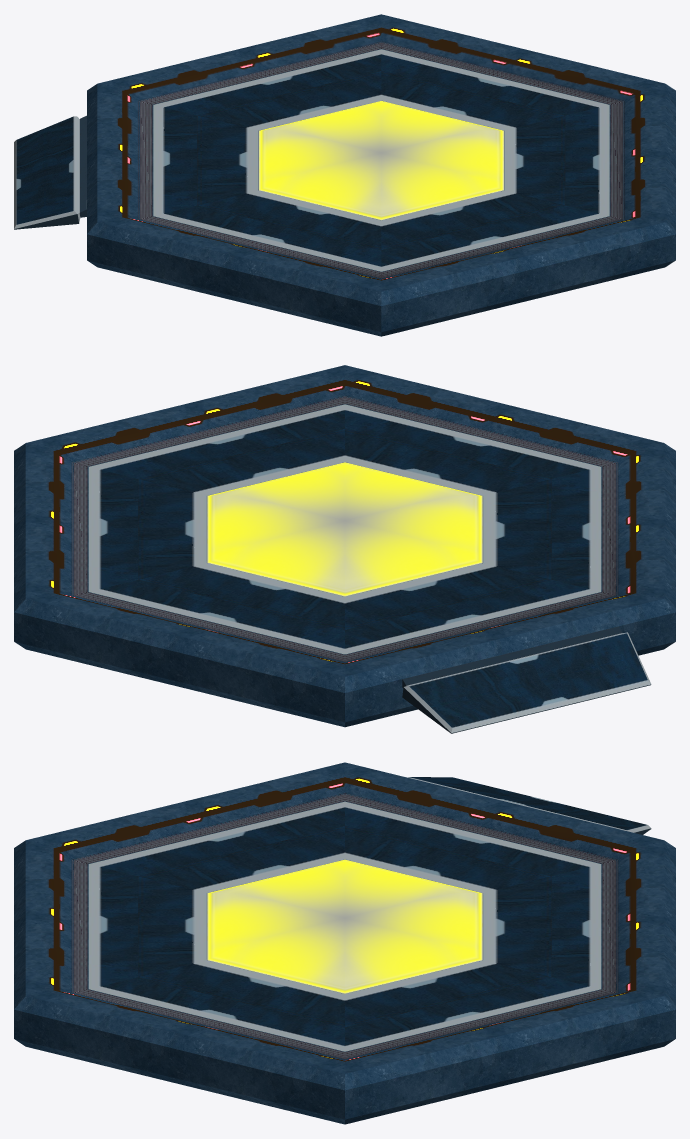
Rendered from entity2120n.gltf.
The picture shows the model from 3 angles, top to bottom: view 1: azimuth 30°, elevation 25°; view 2: azimuth 150°, elevation 25°; view 3: azimuth 270°, elevation 25°; orthographic projection. The views are drawn at different scales.
Visible parts, largest first — view 1: node_Museum_Hex_Floor_Piece_b (2), node_Museum_Hex_Floor_Piece_b_transparency, node_Museum_Hex_Floor_Ramp_Art (1); view 2: node_Museum_Hex_Floor_Piece_b (2), node_Museum_Hex_Floor_Piece_b_transparency, node_Museum_Hex_Floor_Ramp_Art (1); view 3: node_Museum_Hex_Floor_Piece_b (2), node_Museum_Hex_Floor_Piece_b_transparency, node_Museum_Hex_Floor_Ramp_Art (1).
Part boxes in pixels (x1,y1,x2,y2): node_Museum_Hex_Floor_Piece_b (2): [87, 14, 675, 336]; node_Museum_Hex_Floor_Piece_b_transparency: [259, 101, 503, 220]; node_Museum_Hex_Floor_Ramp_Art (1): [14, 115, 86, 229]; node_Museum_Hex_Floor_Piece_b (2): [14, 365, 675, 727]; node_Museum_Hex_Floor_Piece_b_transparency: [207, 462, 482, 596]; node_Museum_Hex_Floor_Ramp_Art (1): [402, 626, 651, 733]; node_Museum_Hex_Floor_Piece_b (2): [14, 762, 675, 1124]; node_Museum_Hex_Floor_Piece_b_transparency: [207, 859, 482, 993]; node_Museum_Hex_Floor_Ramp_Art (1): [408, 777, 651, 834].
Size of what is drawn, in the model's own units: 14.68 by 1.03 by 12.18.
Materials: 4 (4 with a texture image).
